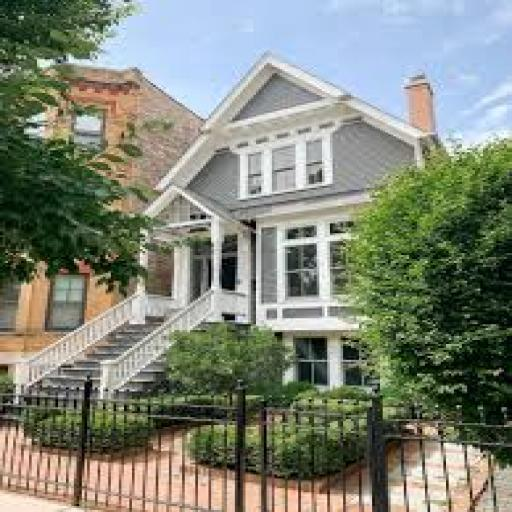casa: (112, 47, 462, 482)
